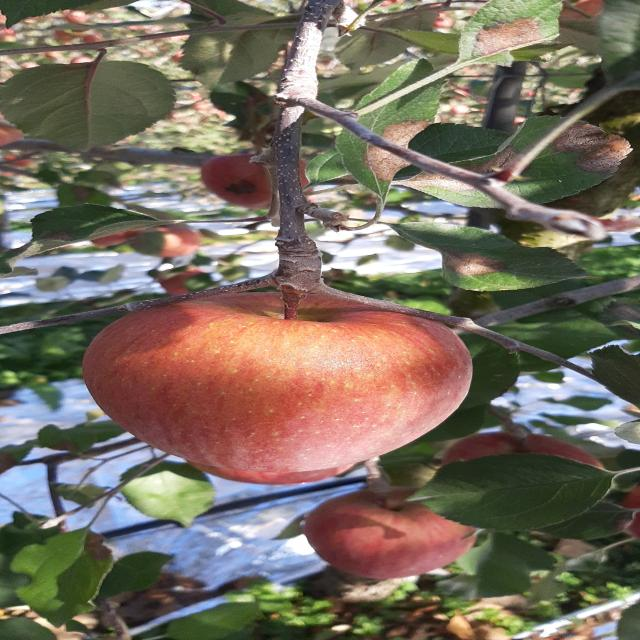fresh: (74, 284, 493, 486)
